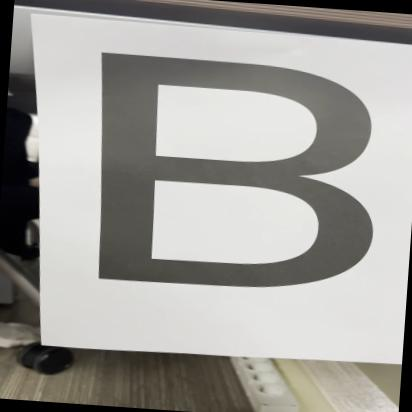seat: (71, 41, 394, 308)
